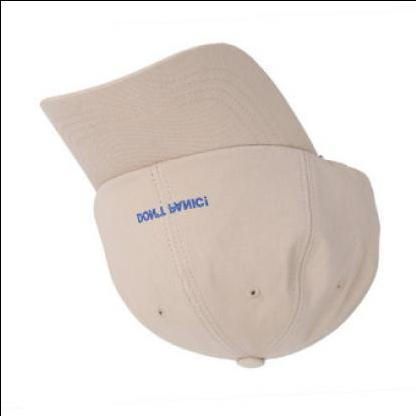cap: (29, 40, 383, 376)
